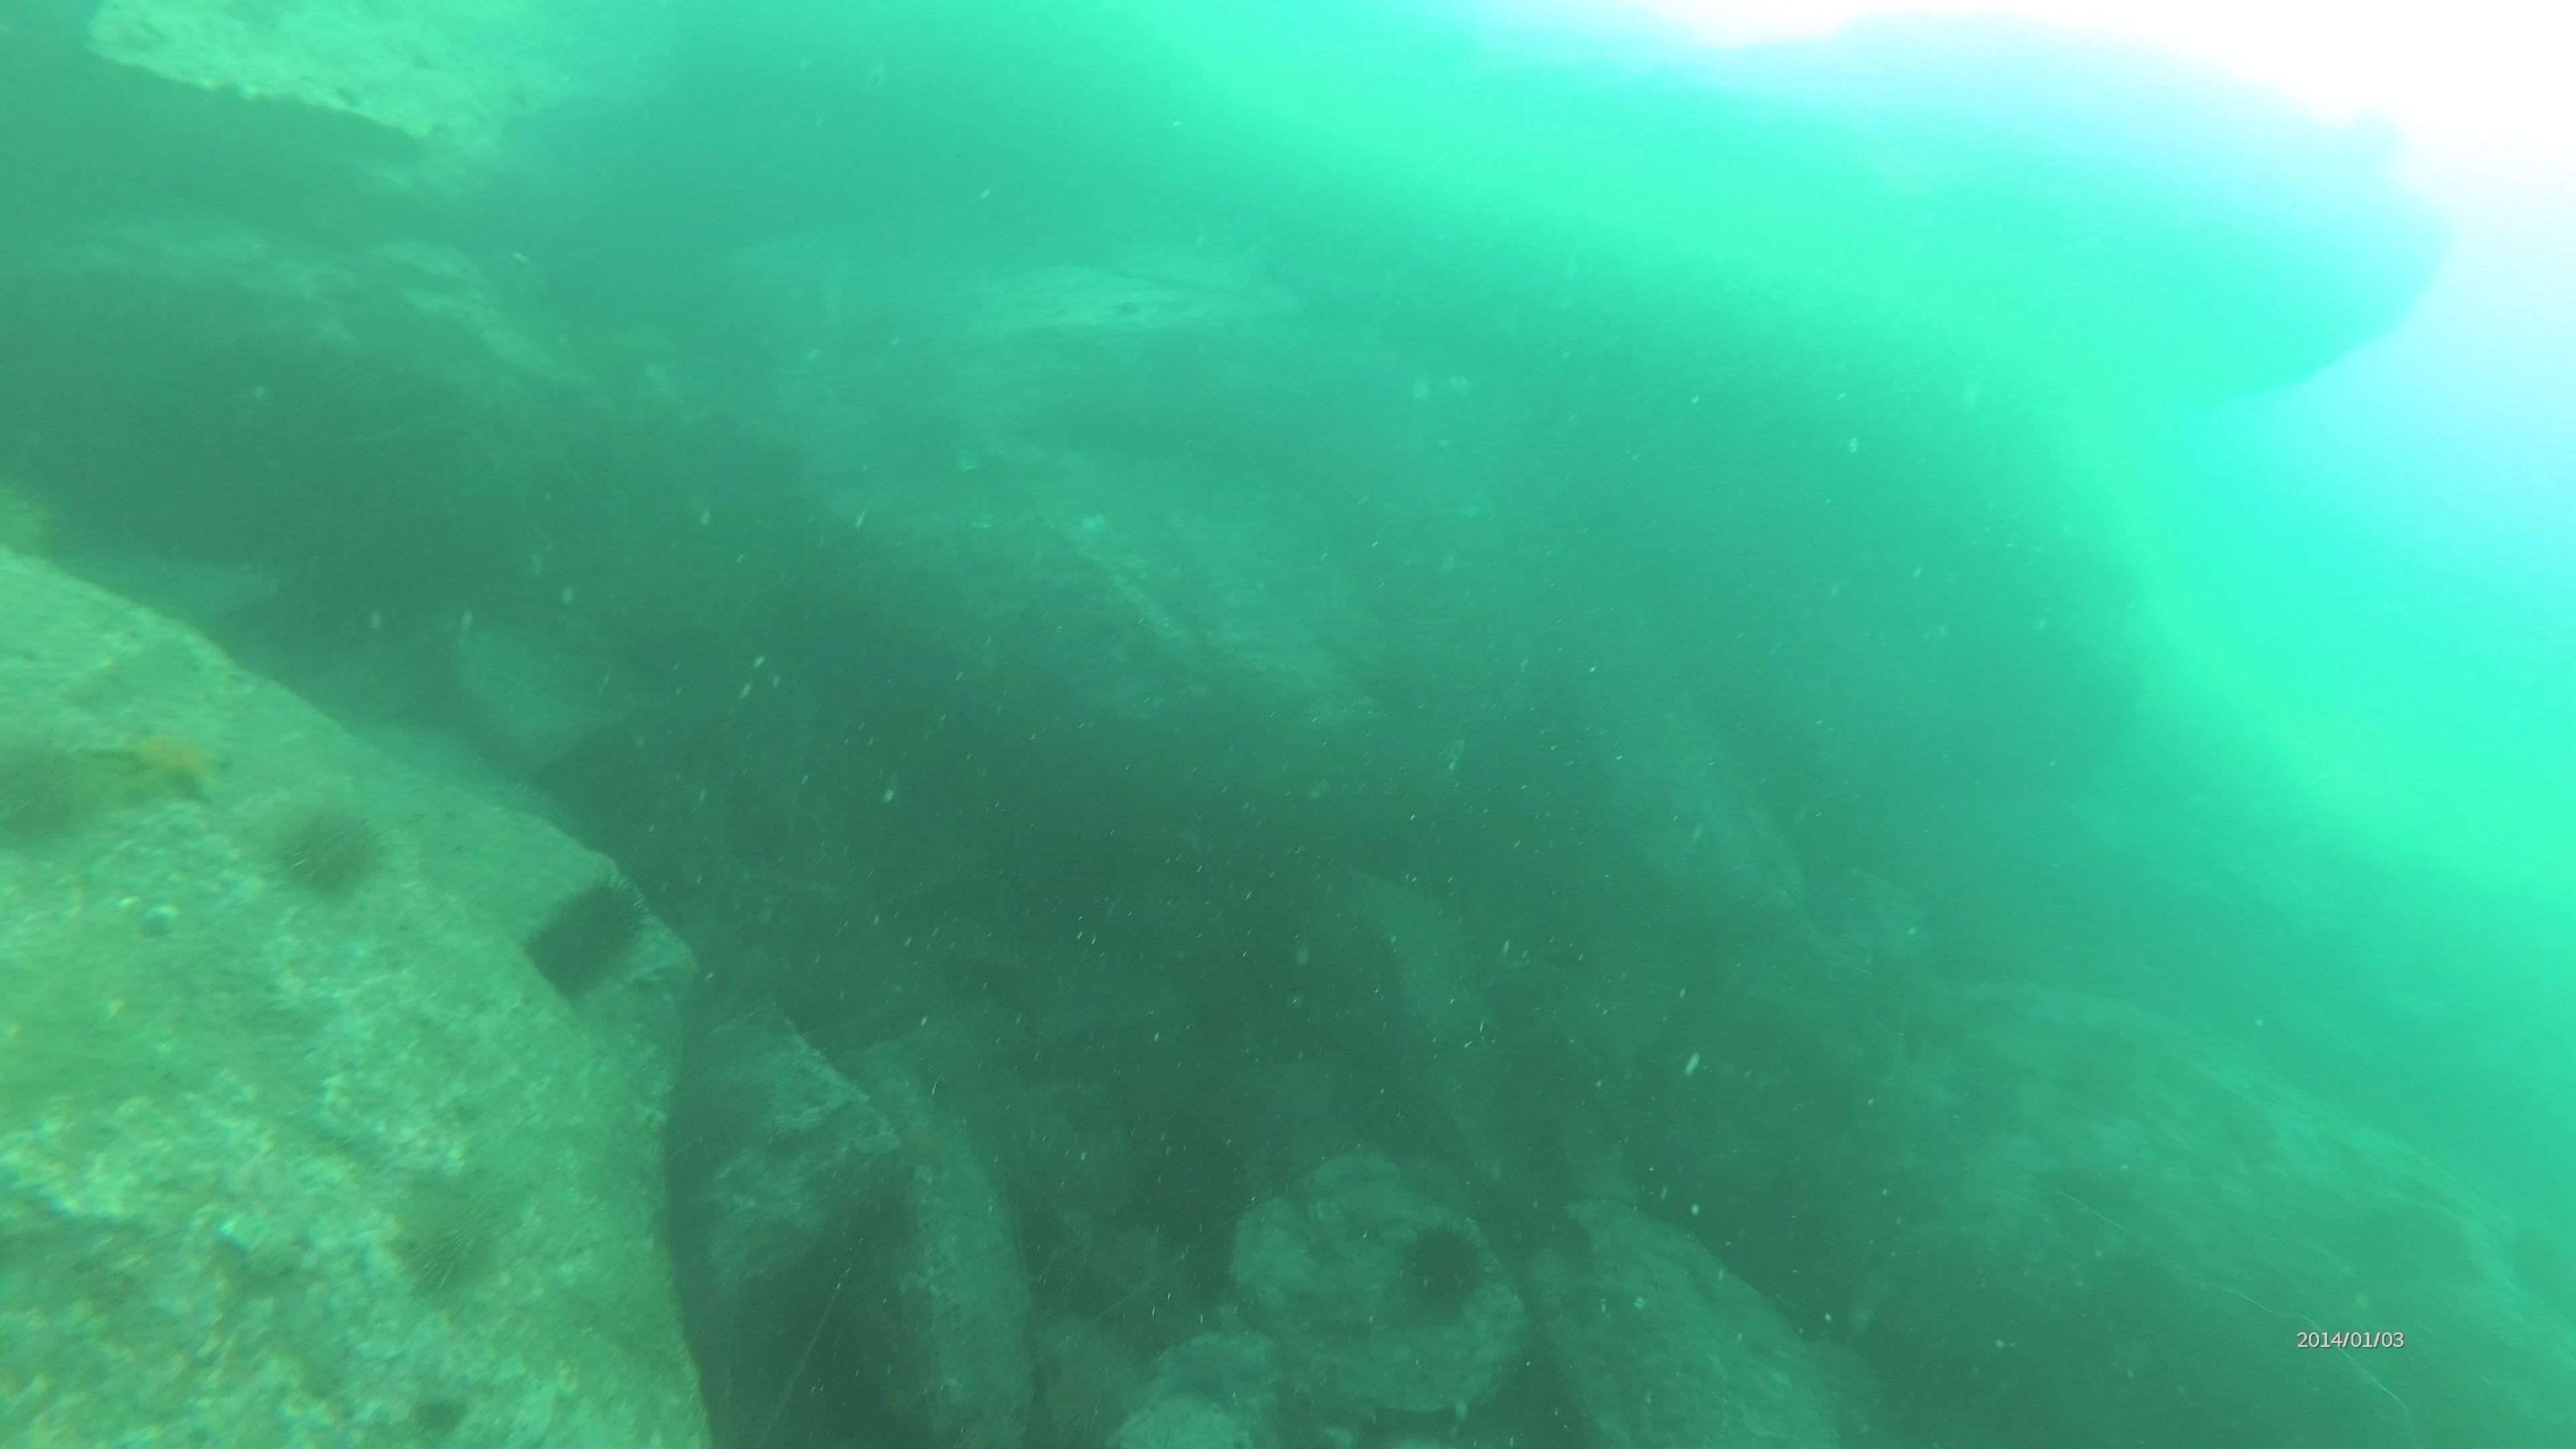echinus: (380, 1162, 517, 1302), (517, 870, 653, 1001), (264, 791, 393, 904), (0, 724, 99, 858), (1384, 1214, 1497, 1327)
starfish: (99, 704, 244, 810), (1143, 1318, 1279, 1415)
